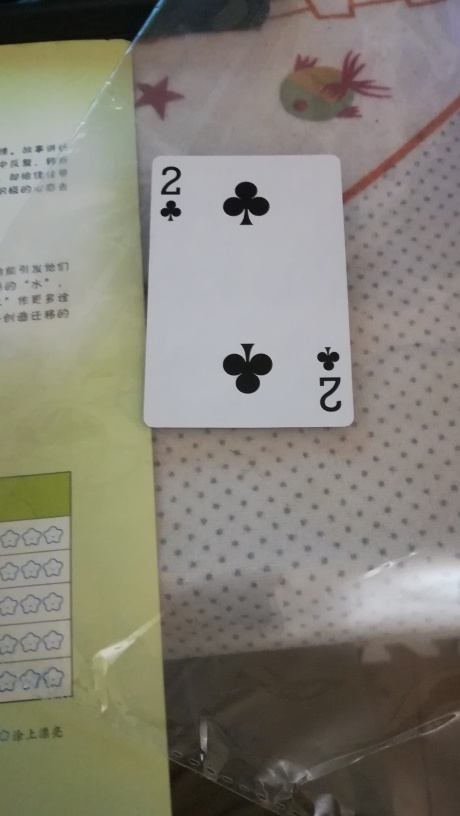mh 2: (132, 147, 360, 428)
